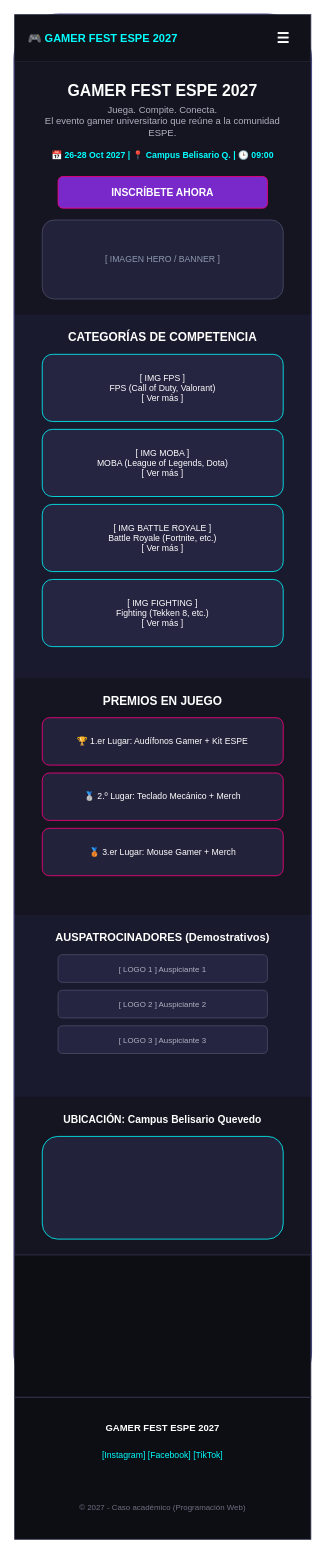
Image size: 325x1553. Some labels were removed from this diagram. Each missing label, with the centre of its shape:
"[ GOOGLE MAPS - Latacunga, Ecuador ]" belongs at (162,1187).
"INSCRIPCION" belongs at (162,1325).
